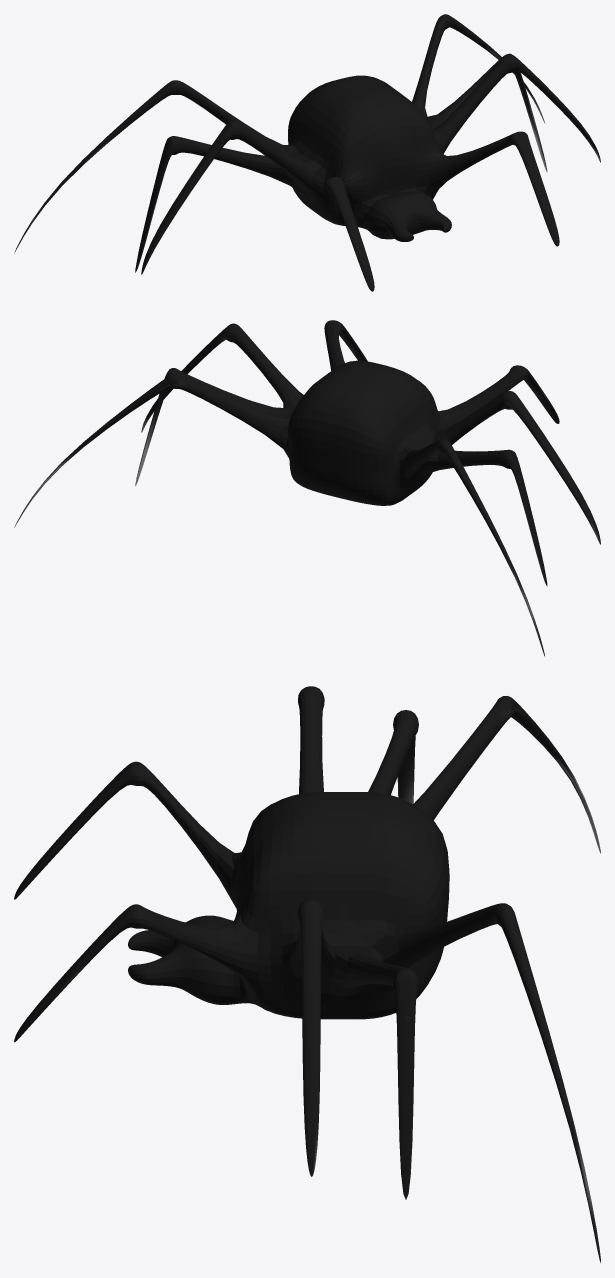
Rendered from spider.fbx.
3 views of the same model, one above another, from view 1: azimuth 30°, elevation 25°; view 2: azimuth 150°, elevation 25°; view 3: azimuth 270°, elevation 25° (orthographic). The views are drawn at different scales.
Parts seen in each view (by area): view 1: Cube; view 2: Cube; view 3: Cube.
Part boxes in pixels (x1,y1,x2,y2): Cube: (14,14,600,291); Cube: (14,320,600,656); Cube: (14,686,600,1262).
Size of the model in its own units: 1263 by 381 by 765.
